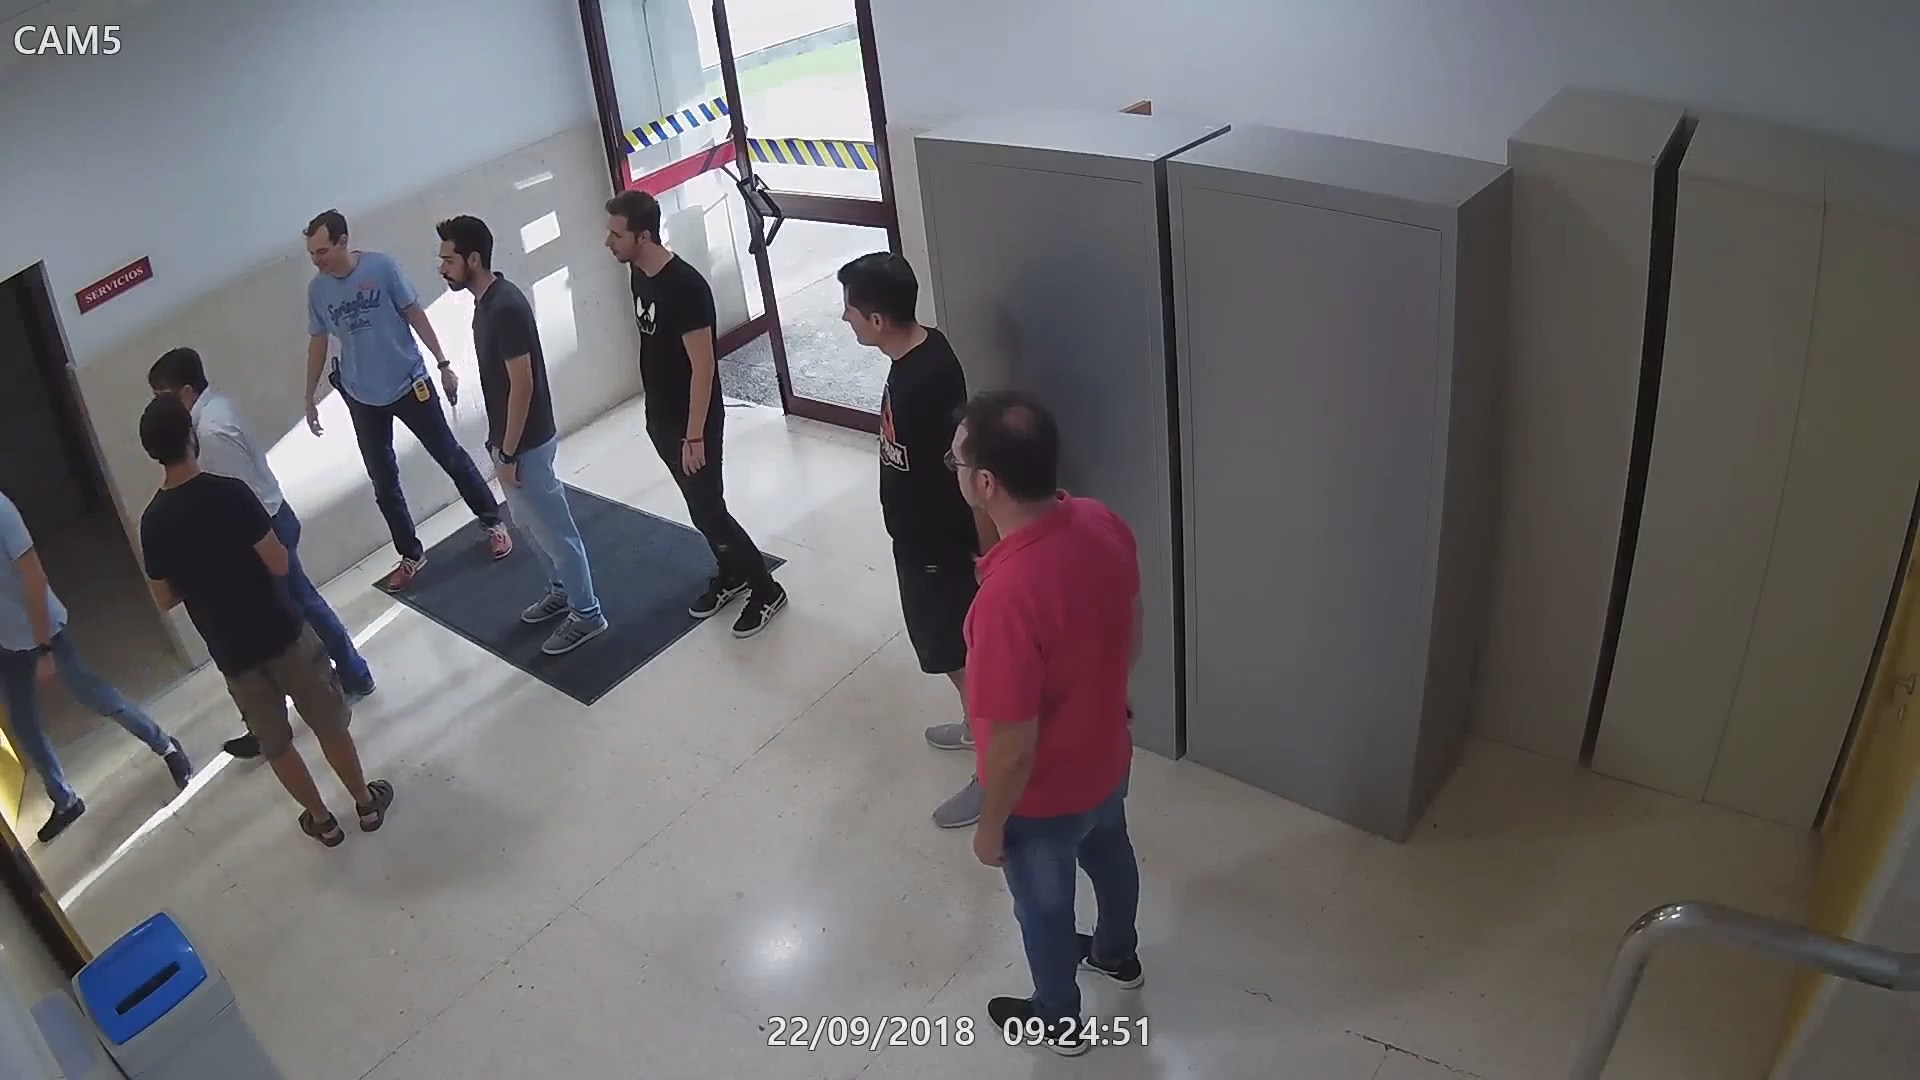knife: (438, 364, 464, 458)
pistol: (320, 349, 347, 397)
